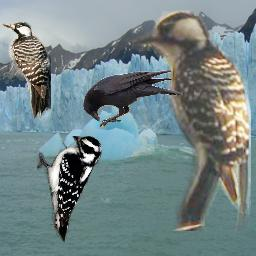Crow: (83, 70, 184, 129)
Woodpecker: (132, 10, 251, 231), (37, 136, 102, 245), (2, 22, 51, 120)
